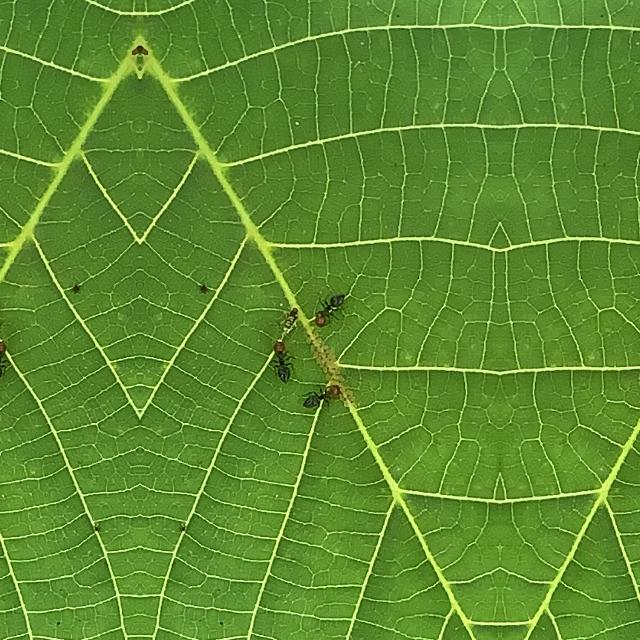Crematogaster: (312, 284, 352, 338), (303, 370, 347, 416), (260, 339, 294, 385), (0, 339, 20, 385)
